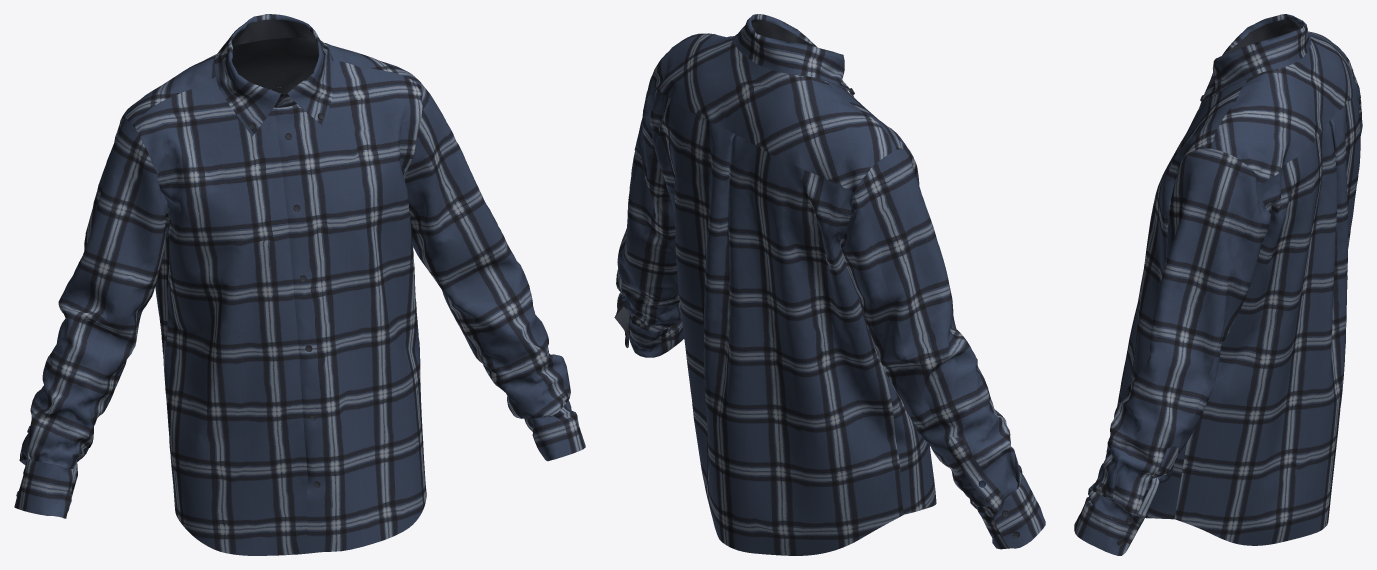
Rendered from flannel.glb.
3 renders of one model, left to right at view 1: azimuth 30°, elevation 25°; view 2: azimuth 150°, elevation 25°; view 3: azimuth 270°, elevation 25°, orthographic. The views are drawn at different scales.
Visible parts, largest first — view 1: flannel; view 2: flannel; view 3: flannel.
Boxes of the visible parts, x1,y1,x2,y2 form: flannel: (14,14,585,555); flannel: (614,14,1045,555); flannel: (1074,14,1362,555).
Bounding box in the file's own units: 0.8552 × 0.8328 × 0.4422.
Materials: 20 (14 with a texture image).
